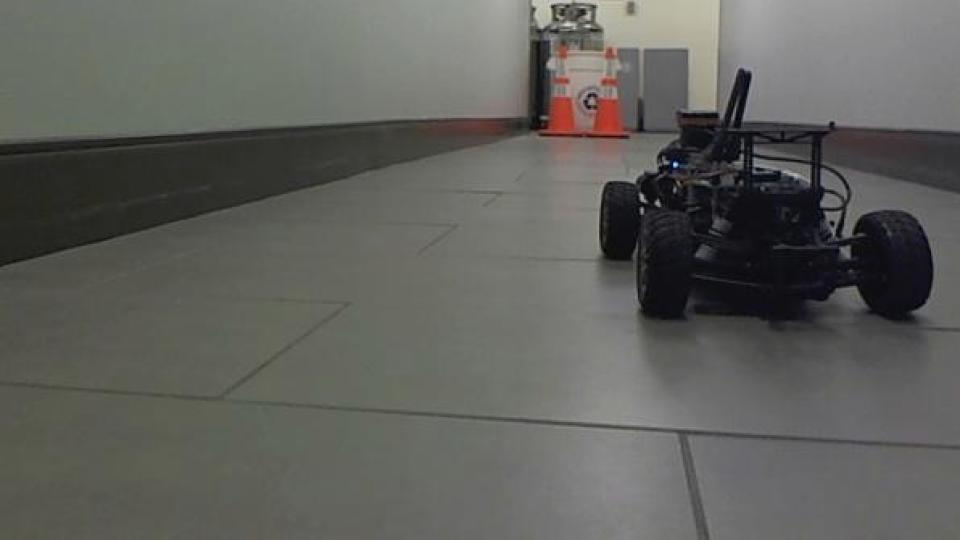car: (595, 65, 938, 326)
